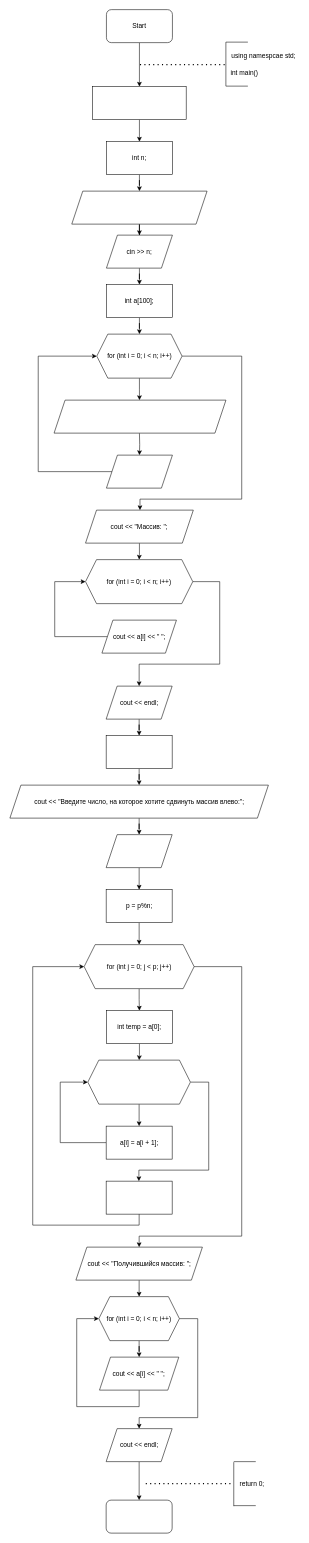
Some shapes in this 309 by 1543 pixel diagram are drawn without their labels. Here are the shapes that lost their labels. From the top down, the centre of each, then its label:
(x=139, y=103): setlocale(LC_ALL, "Russian");
(x=139, y=207): cout << "Введите размер массива: ";
(x=140, y=416): cout << "Введите число номер " << n + 1 << ":";
(x=139, y=471): cin >> a[i];
(x=139, y=752): int p;
(x=139, y=851): cin >> p;
(x=138, y=1082): for (int i = 0; i < n - 1; i++)
(x=139, y=1197): a[n - 1] = temp;
(x=139, y=1516): end
